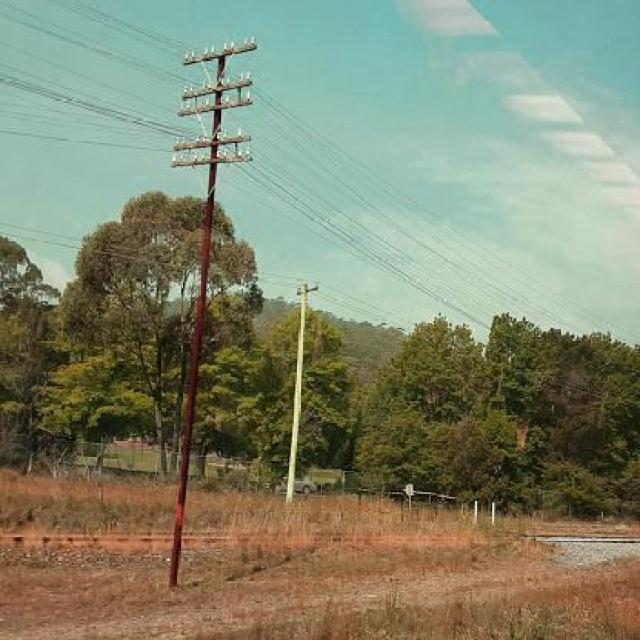light_pole: (156, 32, 258, 198), (280, 274, 328, 342)
